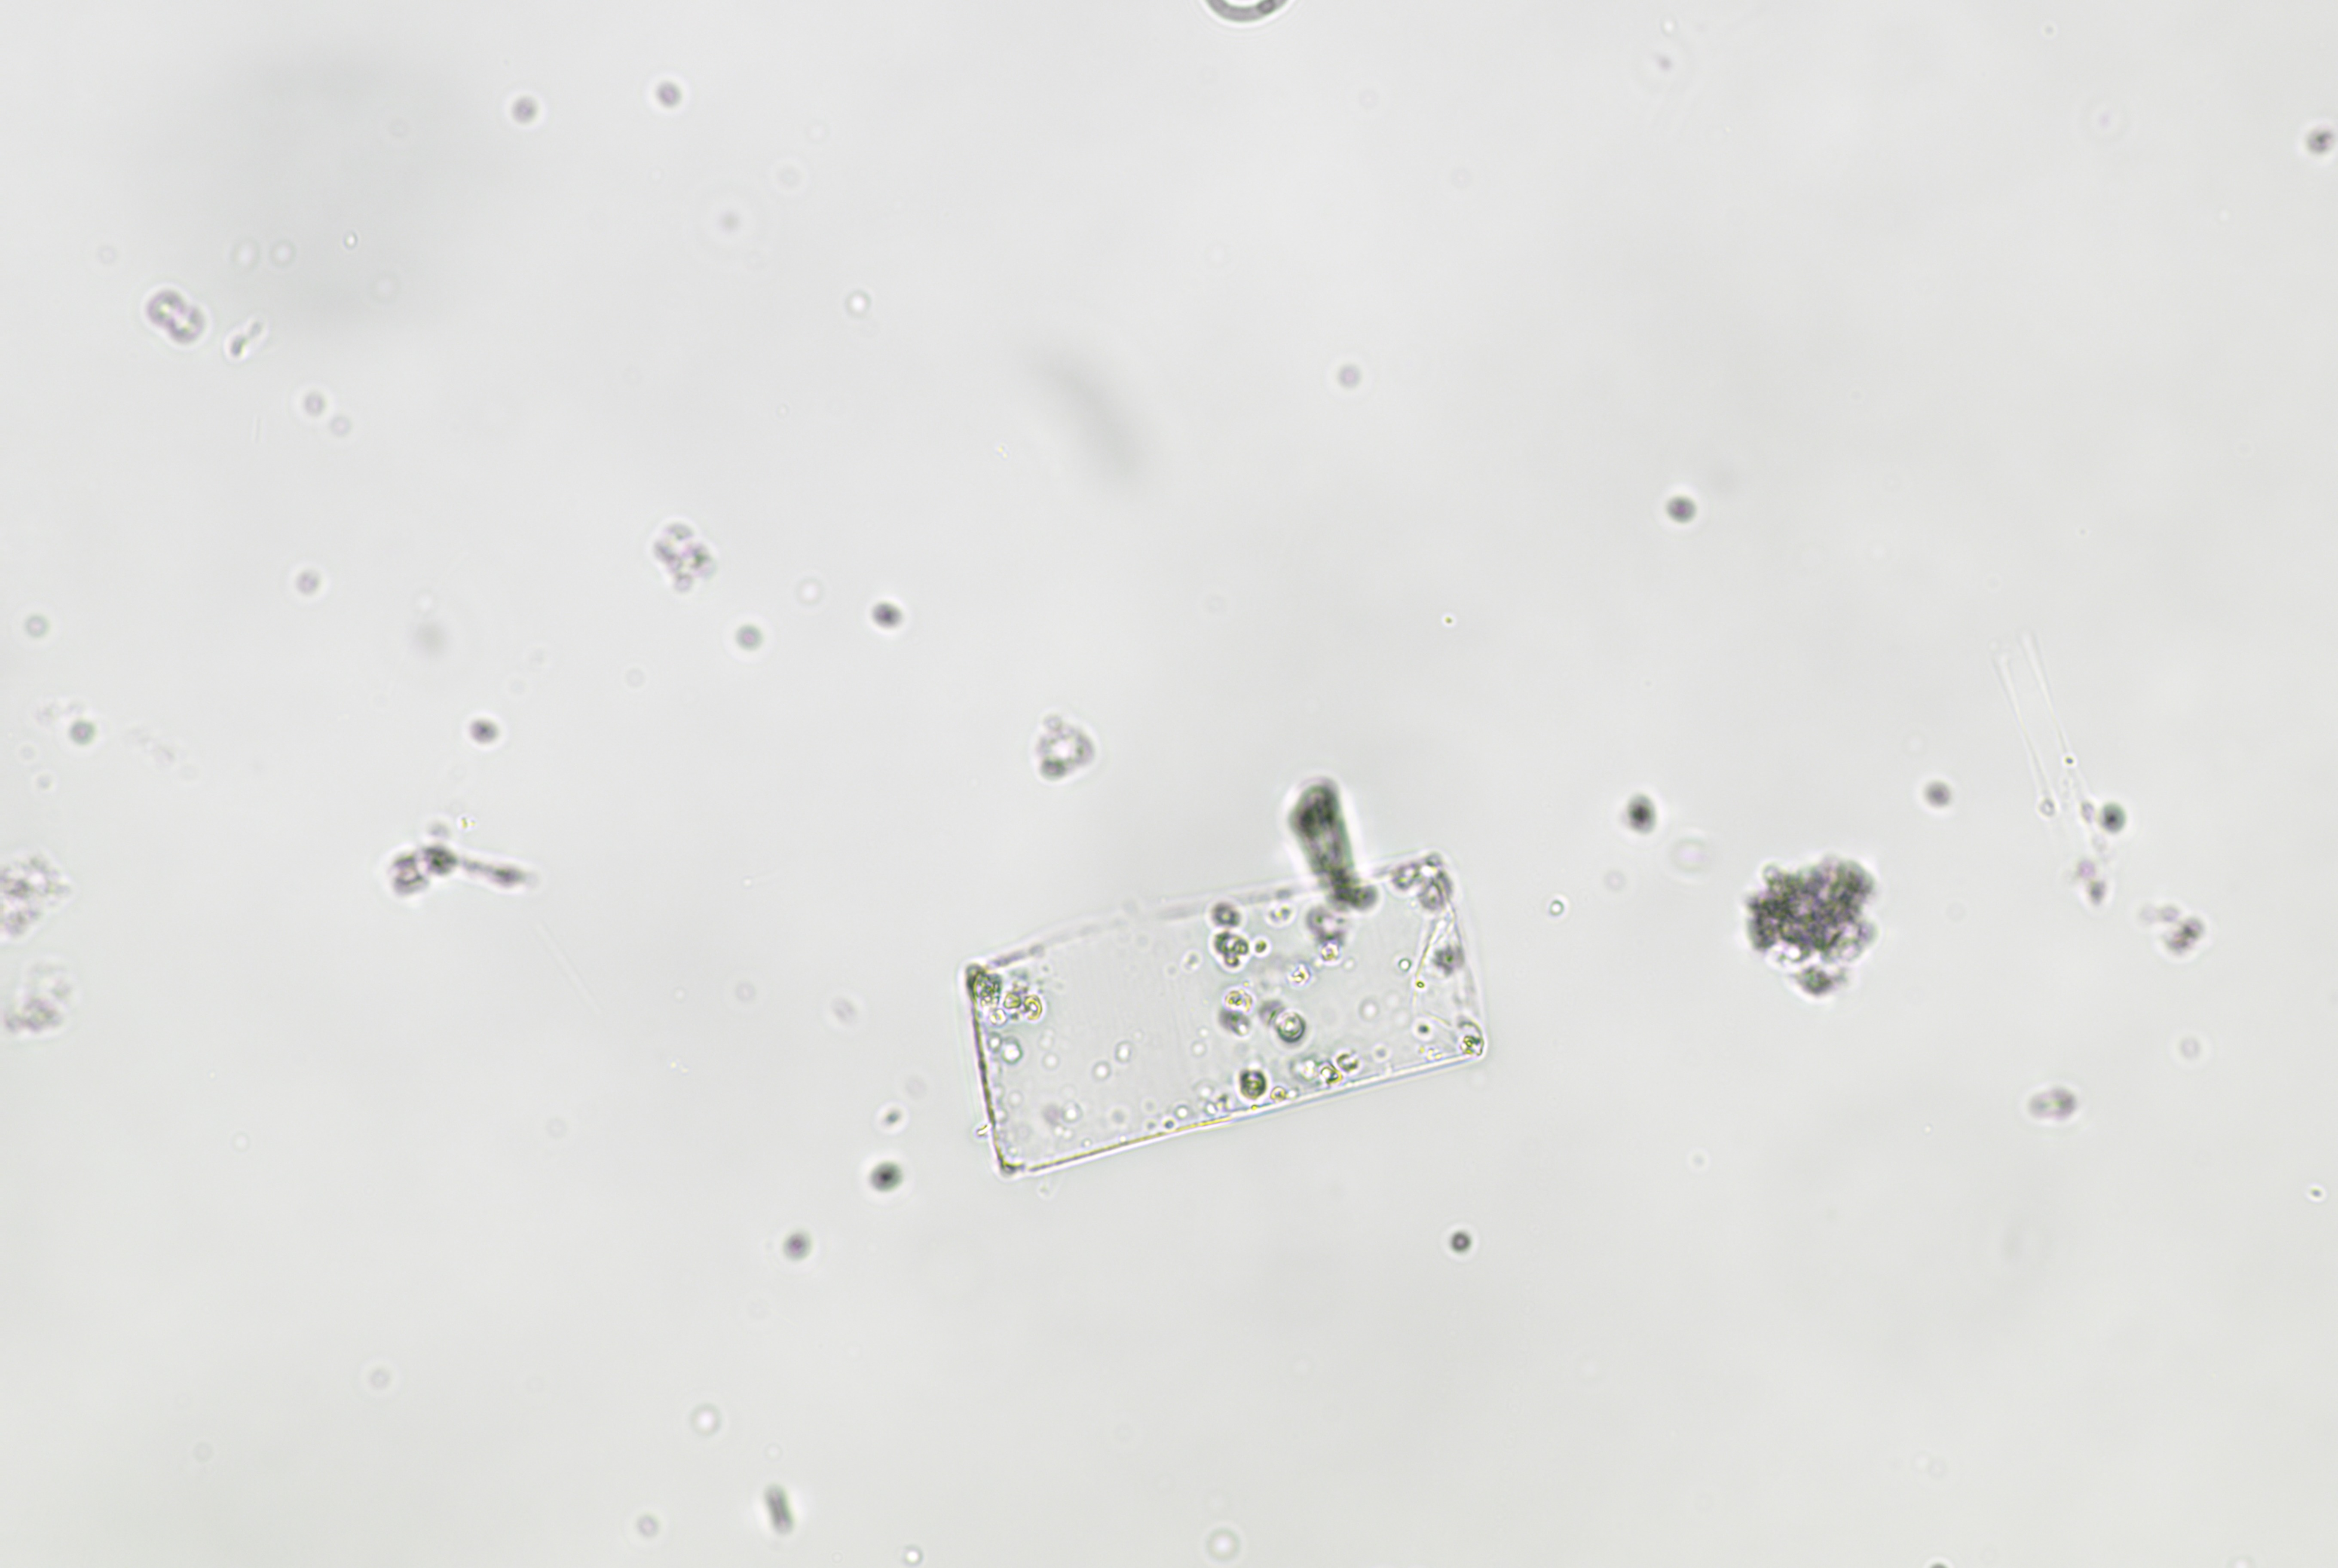guinardia flaccida: (926, 845, 1510, 1176)
